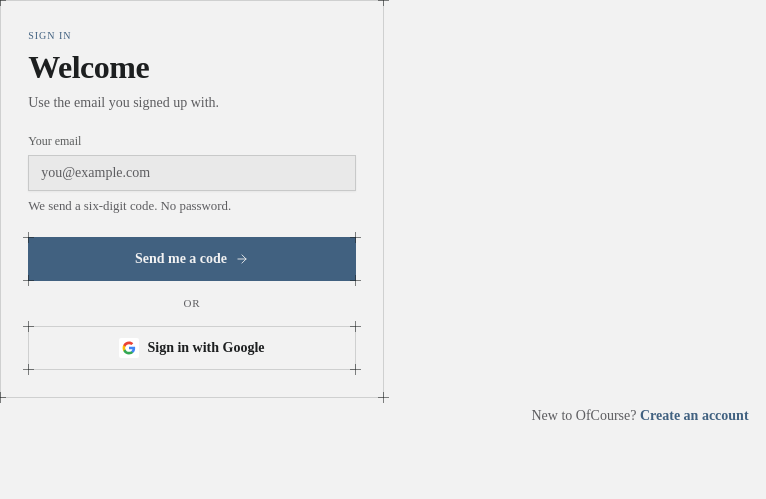
it: says when the server holds back a new code
Type "a@b.test" into the field labelled "Your email" at (192, 173), box left=28, top=155, right=356, bottom=191
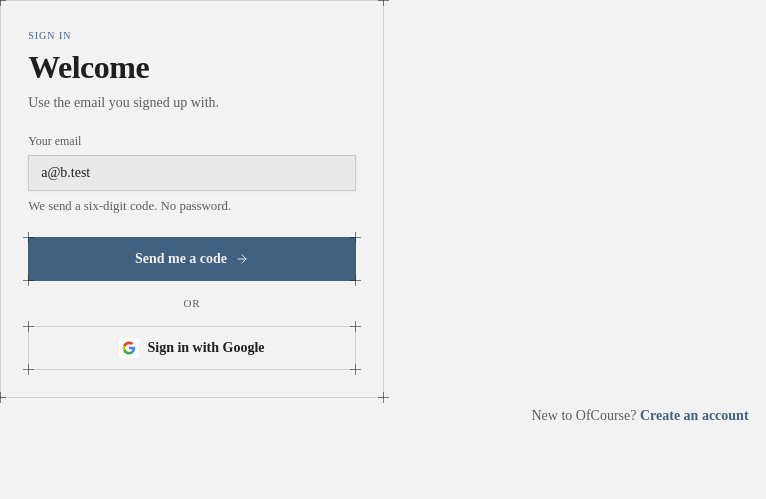
Click the button "Send me a code" at (192, 259), box left=28, top=237, right=356, bottom=281
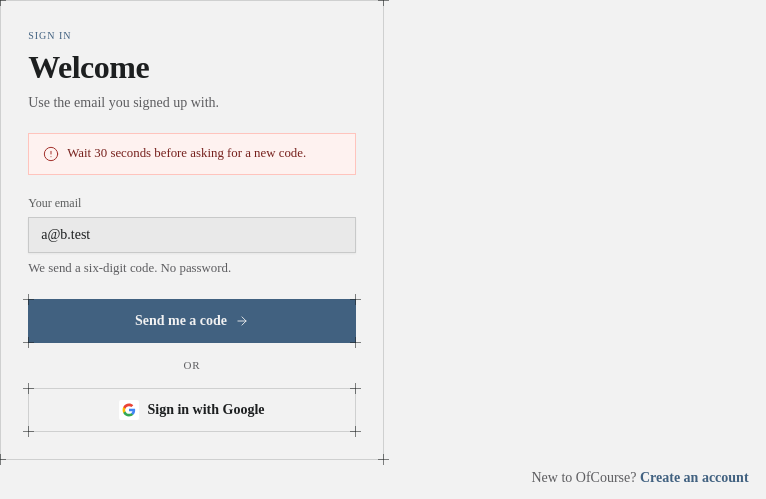
Check: the message reads "Wait 30 seconds before asking for a new code.", box left=67, top=146, right=306, bottom=160
